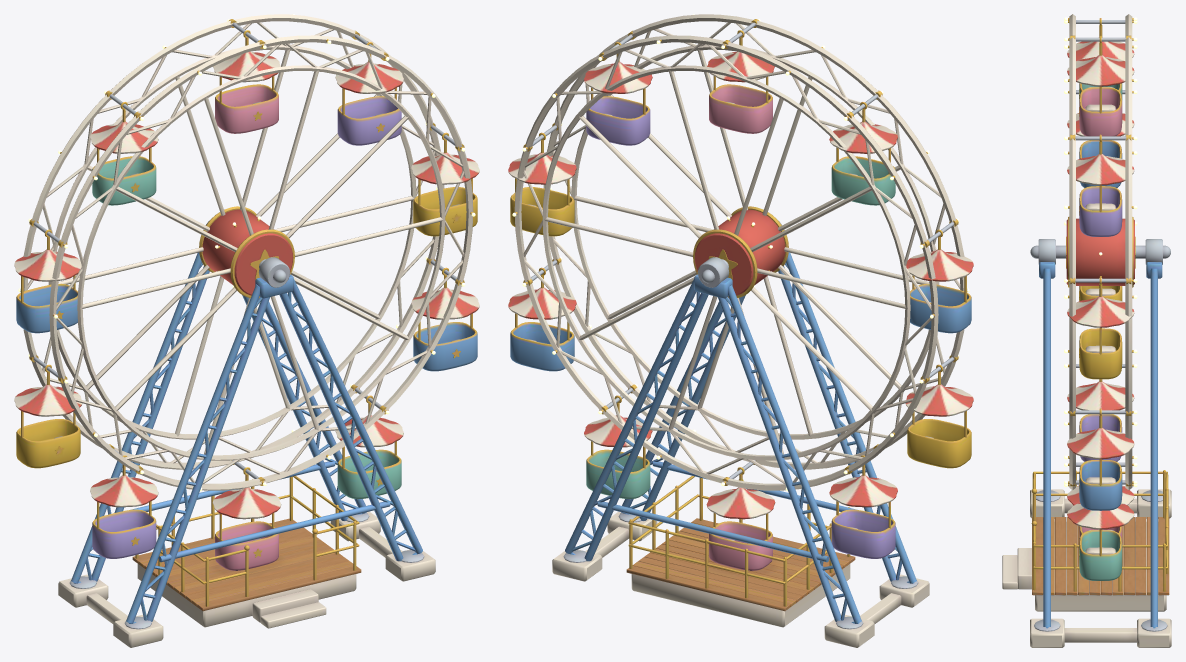
The model's file is ferris_wheel.glb.
3 views of the same model, side by side, from view 1: azimuth 30°, elevation 25°; view 2: azimuth 150°, elevation 25°; view 3: azimuth 270°, elevation 25° (orthographic). The views are drawn at different scales.
Visible parts, largest first — view 1: ferris-wheel_body, ferris-wheel_rotor; view 2: ferris-wheel_body, ferris-wheel_rotor; view 3: ferris-wheel_body, ferris-wheel_rotor, ferris-wheel_rotor_bulbs.
Boxes of the visible parts, x1,y1,x2,y2 form: ferris-wheel_body: (14,30,479,647); ferris-wheel_rotor: (20,14,473,490); ferris-wheel_body: (508,30,973,647); ferris-wheel_rotor: (514,14,967,490); ferris-wheel_body: (1002,18,1171,647); ferris-wheel_rotor: (1066,14,1135,490); ferris-wheel_rotor_bulbs: (1064,17,1137,486).
Size of the model in its own units: 10.07 by 11.68 by 3.32.
Materials: 3 (2 with a texture image).
